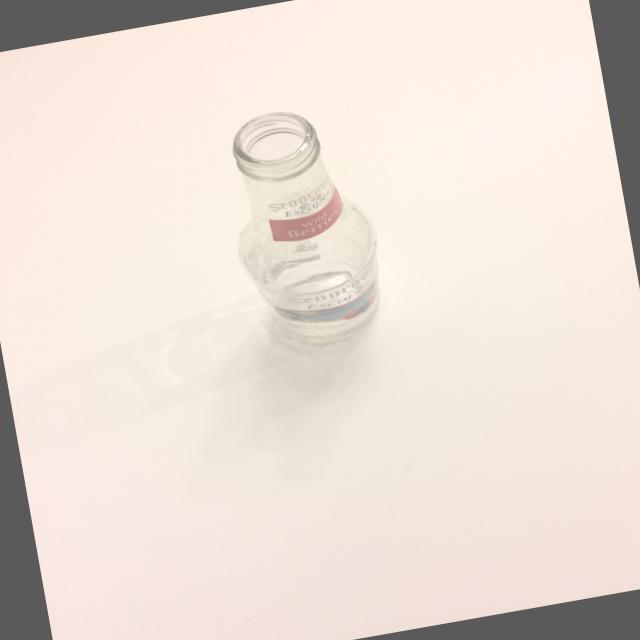Glass: (188, 92, 406, 374)
